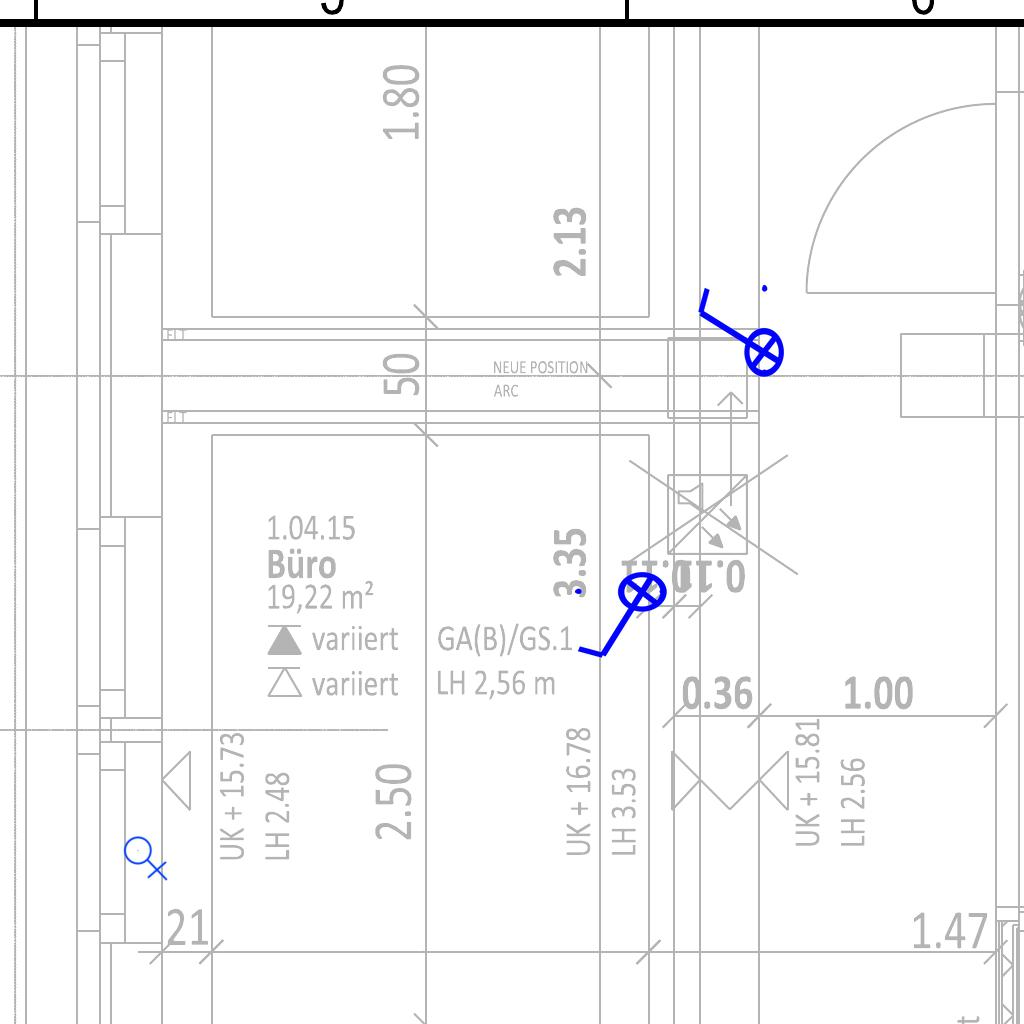Ausschalter_beleuchtet: (690, 279, 786, 391), (569, 570, 681, 666)
Elektroanschluss_allgemein_230V_Geraeteanschlussdose_230V: (123, 832, 170, 881)
